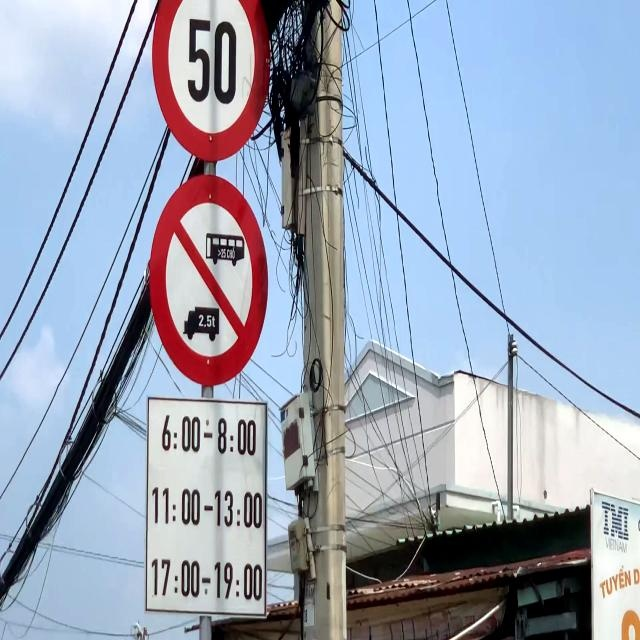bien_cam: (149, 0, 272, 164)
